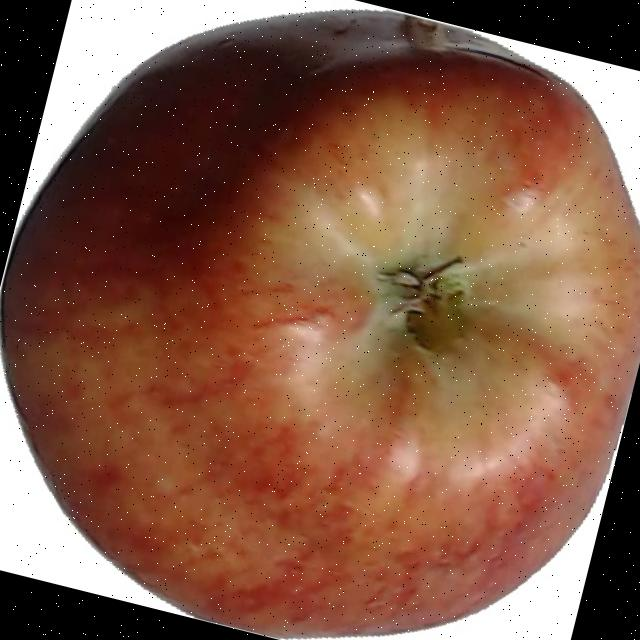apple: (1, 10, 640, 636)
